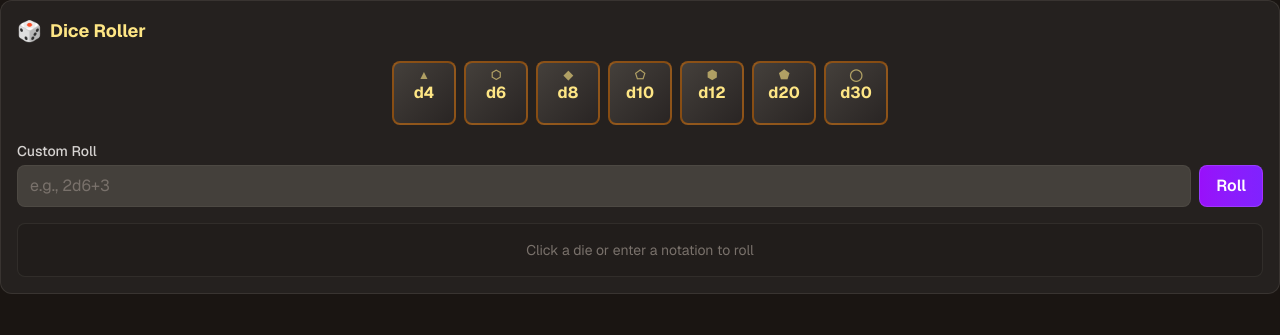
Test: DiceRoller › custom notation input › should show error for invalid notation
Type "invalid" into the field labelled "Custom Roll" at (604, 186), box [17,165,1191,207]
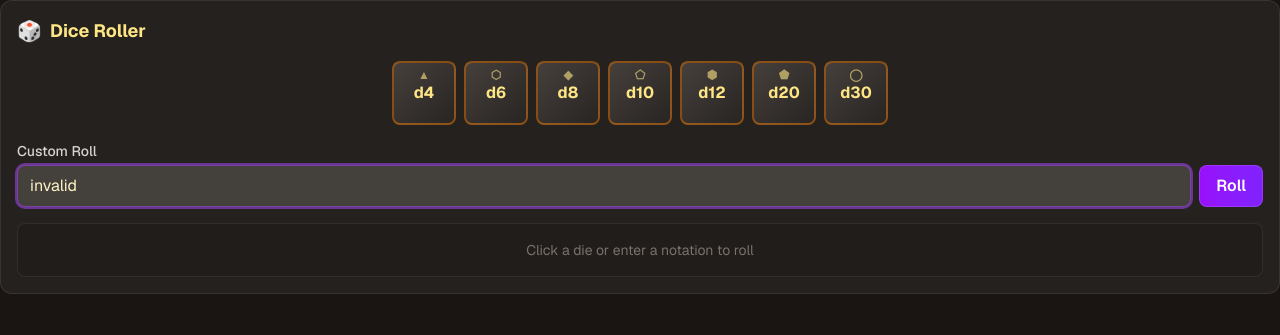
Click the button "Roll" at (1231, 186), box [1199,165,1263,207]
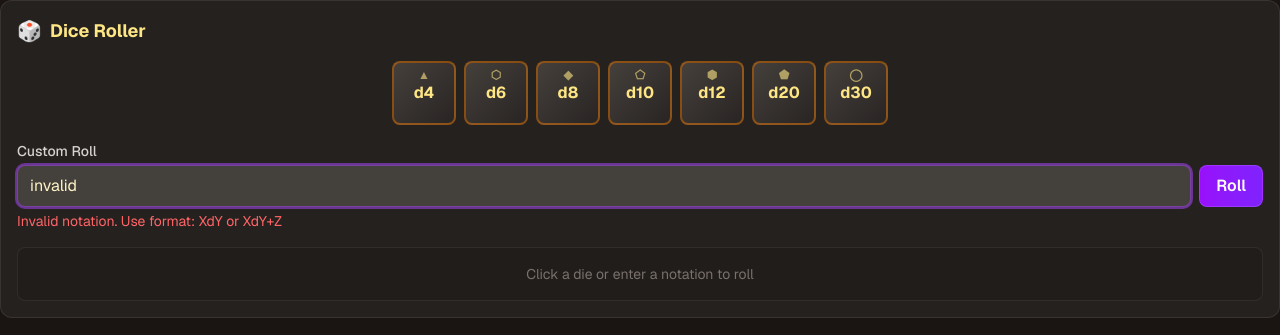
Result: the text "Invalid notation. Use format: XdY or XdY+Z" is shown at [17,212,282,230]
